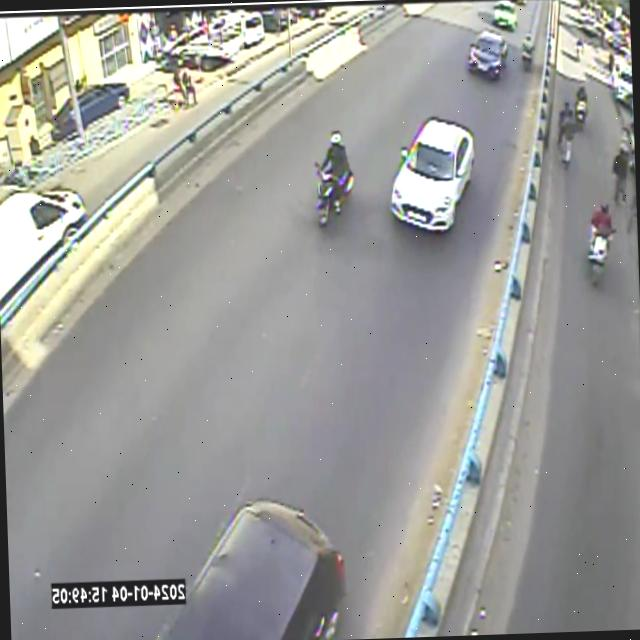car: (158, 499, 345, 640), (391, 116, 474, 230), (467, 30, 506, 78), (492, 0, 517, 30)
